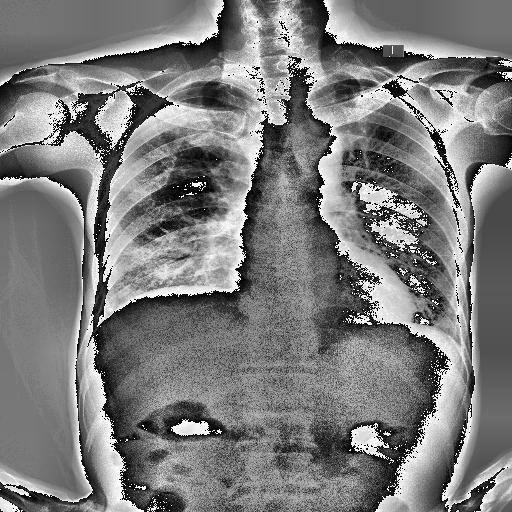13- Pulmonary fibrosis: (100, 229, 236, 310), (438, 304, 460, 340)
5- ILD: (95, 188, 239, 314), (346, 224, 466, 337), (100, 229, 236, 310), (398, 194, 468, 330), (102, 216, 186, 318), (438, 304, 460, 340)
